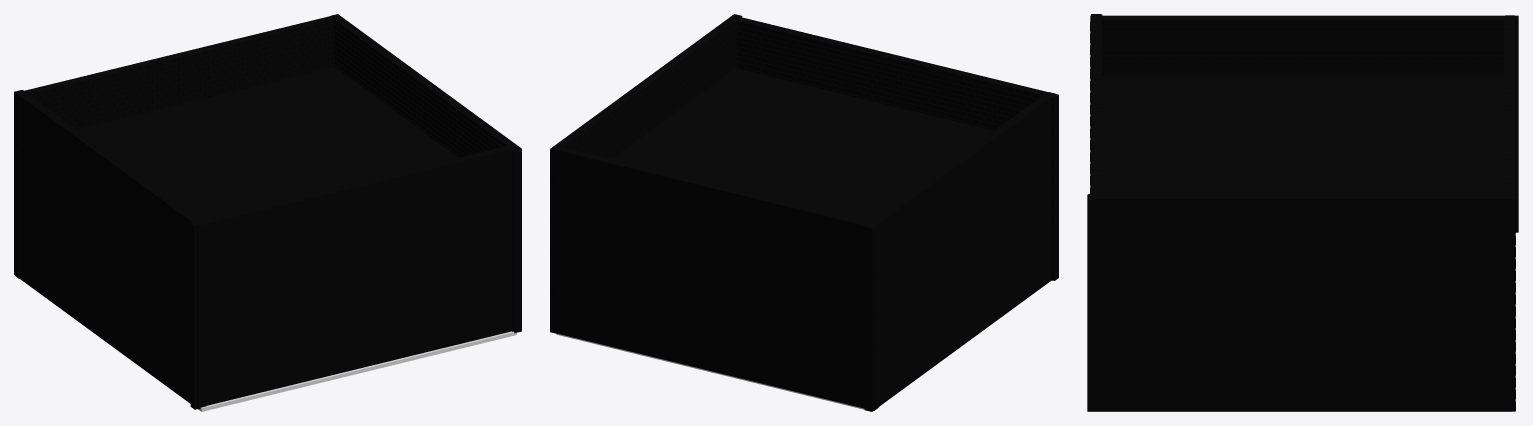
File: Muro.fbx
3 views of the same model, side by side, from view 1: azimuth 30°, elevation 25°; view 2: azimuth 150°, elevation 25°; view 3: azimuth 270°, elevation 25° (orthographic). The views are drawn at different scales.
Visible parts, largest first — view 1: Pared.003, Pared, Techo, Pared.002, Pared.001, piso; view 2: Pared.002, Pared, Techo, Pared.003, Pared.001, piso; view 3: Pared.001, Techo, Pared, Pared.003, Pared.002, piso.
Part boxes in pixels (x1,y1,x2,y2): Pared.003: (190,146,512,409); Pared: (14,90,206,408); Techo: (20,67,511,276); Pared.002: (15,16,337,278); Pared.001: (330,14,521,333); piso: (23,281,516,411); Pared.002: (556,147,879,410); Pared: (864,92,1055,411); Techo: (558,68,1051,278); Pared.003: (736,17,1058,280); Pared.001: (550,14,742,333); piso: (556,285,1044,409); Pared.001: (1087,194,1515,411); Techo: (1102,74,1503,194); Pared: (1090,15,1518,232); Pared.003: (1091,14,1102,194); Pared.002: (1503,15,1514,195); piso: (1088,411,1511,411).
Size of the model in its own units: 8128 by 4425 by 8011.
